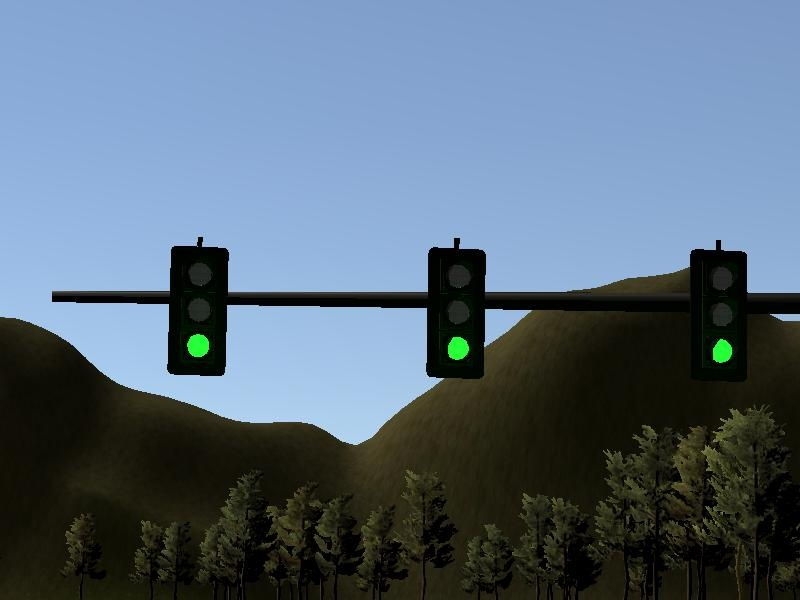GREEN: (689, 248, 747, 376), (426, 248, 484, 376), (169, 246, 227, 374)
